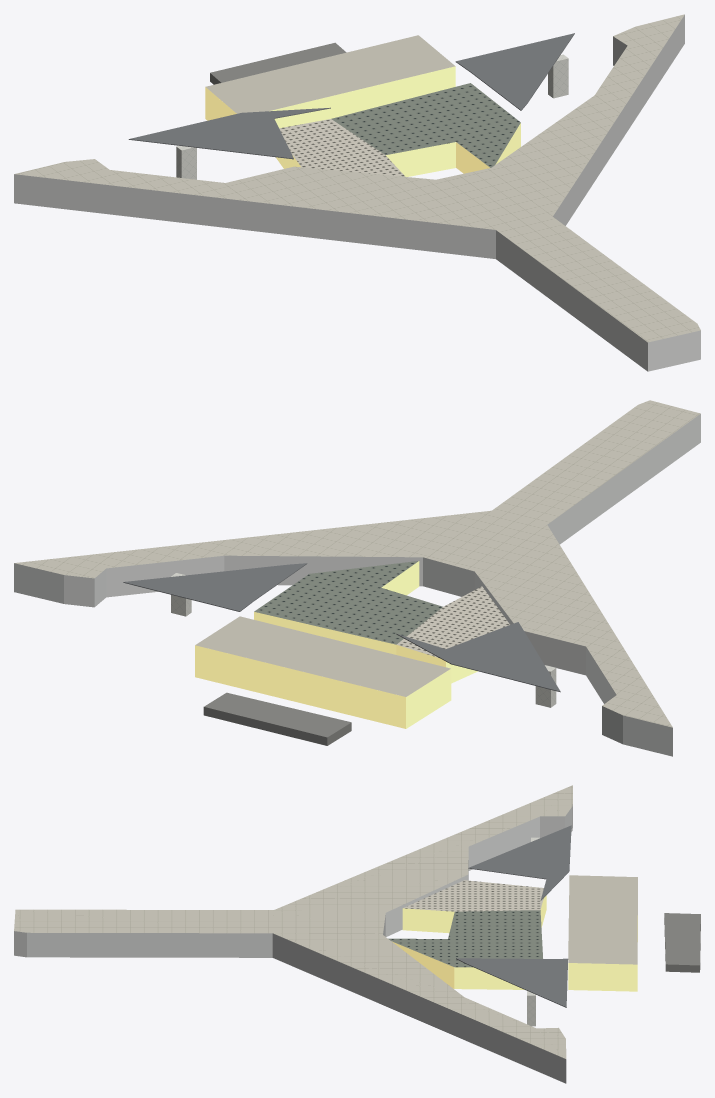
The model's file is islamabad_airport_terminal_far.glb.
3 renders of one model, top to bottom at view 1: azimuth 30°, elevation 25°; view 2: azimuth 150°, elevation 25°; view 3: azimuth 270°, elevation 25°, orthographic. The views are drawn at different scales.
Parts seen in each view (by area): view 1: m_pier_roof, m_white_plain, m_hall_roof, m_front_roof, m_grey_fascia, m_teal_glass, m_terrace_roof, m_low_block_grey, m_pylon_tile; view 2: m_pier_roof, m_white_plain, m_teal_glass, m_front_roof, m_hall_roof, m_grey_fascia, m_low_block_grey, m_terrace_roof, m_pylon_tile; view 3: m_pier_roof, m_white_plain, m_front_roof, m_grey_fascia, m_hall_roof, m_teal_glass, m_terrace_roof, m_low_block_grey.
Part boxes in pixels (x1,y1,x2,y2): m_pier_roof: (14, 14, 700, 342); m_white_plain: (14, 15, 700, 371); m_hall_roof: (331, 83, 520, 167); m_front_roof: (205, 35, 455, 113); m_grey_fascia: (128, 33, 574, 159); m_teal_glass: (205, 66, 520, 176); m_terrace_roof: (279, 119, 405, 176); m_low_block_grey: (210, 42, 346, 84); m_pylon_tile: (176, 54, 568, 179); m_pier_roof: (14, 400, 700, 727); m_white_plain: (14, 414, 700, 756); m_teal_glass: (195, 561, 477, 728); m_front_roof: (195, 616, 450, 696); m_hall_roof: (254, 561, 442, 644); m_grey_fascia: (123, 563, 560, 692); m_low_block_grey: (203, 692, 351, 745); m_terrace_roof: (396, 586, 509, 657); m_pylon_tile: (171, 573, 556, 707); m_pier_roof: (14, 785, 572, 1058); m_white_plain: (14, 804, 572, 1083); m_front_roof: (568, 875, 637, 964); m_grey_fascia: (456, 825, 571, 1007); m_hall_roof: (388, 910, 542, 967); m_teal_glass: (392, 895, 637, 991); m_terrace_roof: (403, 880, 543, 911); m_low_block_grey: (664, 913, 700, 972).
Size of the model in its own units: 564 by 30 by 598.
Materials: 9 (4 with a texture image).
